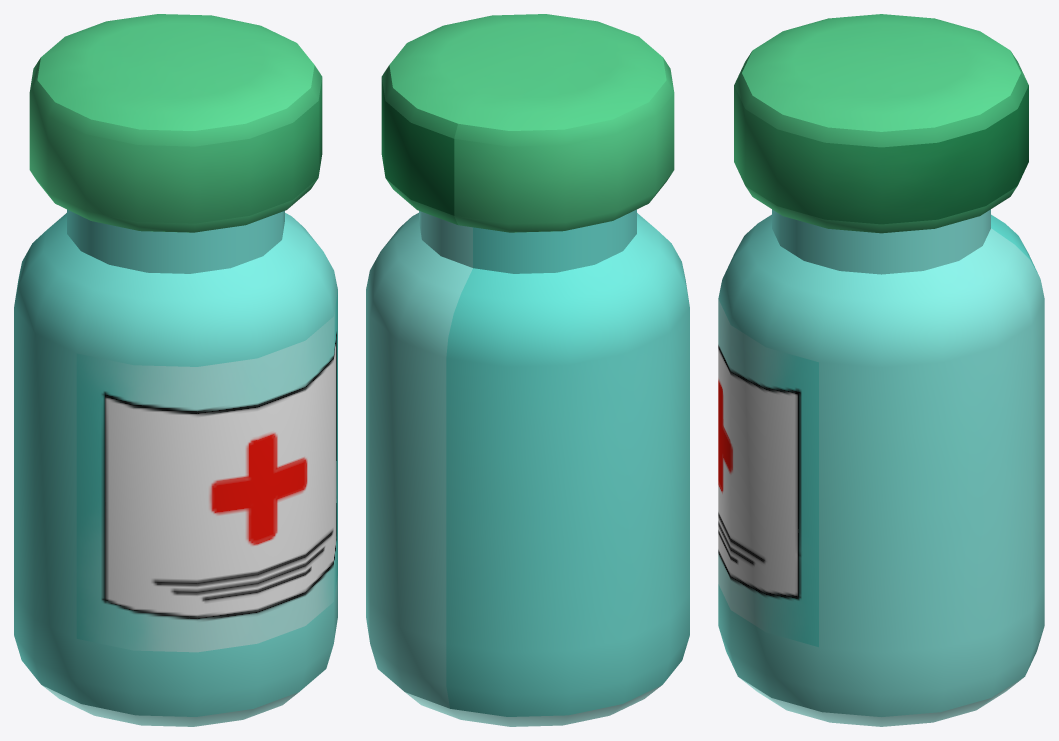
File: PillContainer.fbx
The picture shows the model from 3 angles, left to right: view 1: azimuth 30°, elevation 25°; view 2: azimuth 150°, elevation 25°; view 3: azimuth 270°, elevation 25°; orthographic projection.
Parts seen in each view (by area): view 1: PillContainer; view 2: PillContainer; view 3: PillContainer.
Part boxes in pixels (x1,y1,x2,y2): PillContainer: (14, 14, 337, 726); PillContainer: (366, 14, 689, 726); PillContainer: (718, 14, 1044, 726).
Bounding box in the file's own units: 14.77 × 30.78 × 14.77.
